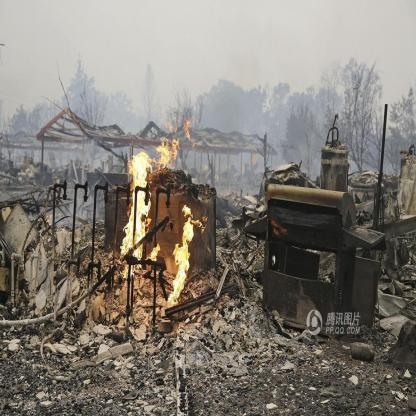fire: (124, 114, 205, 304)
